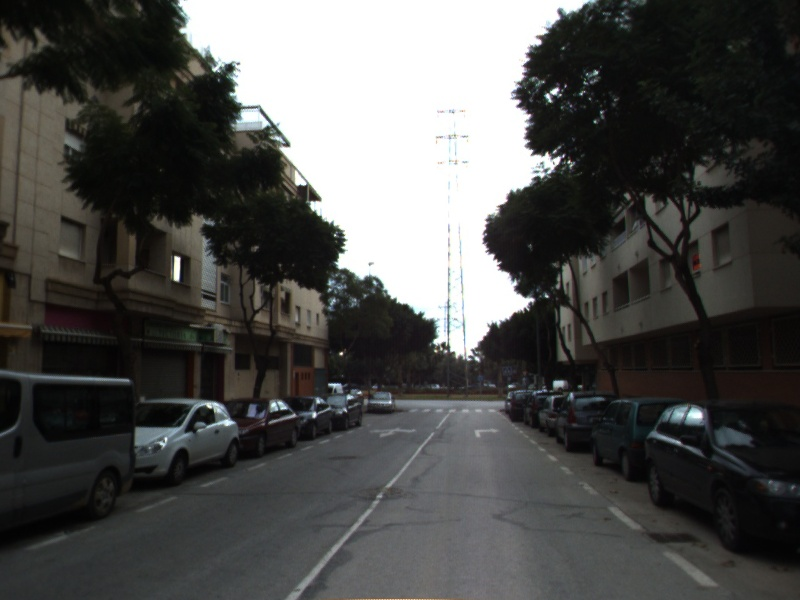RIGHT: (472, 425, 502, 439)
